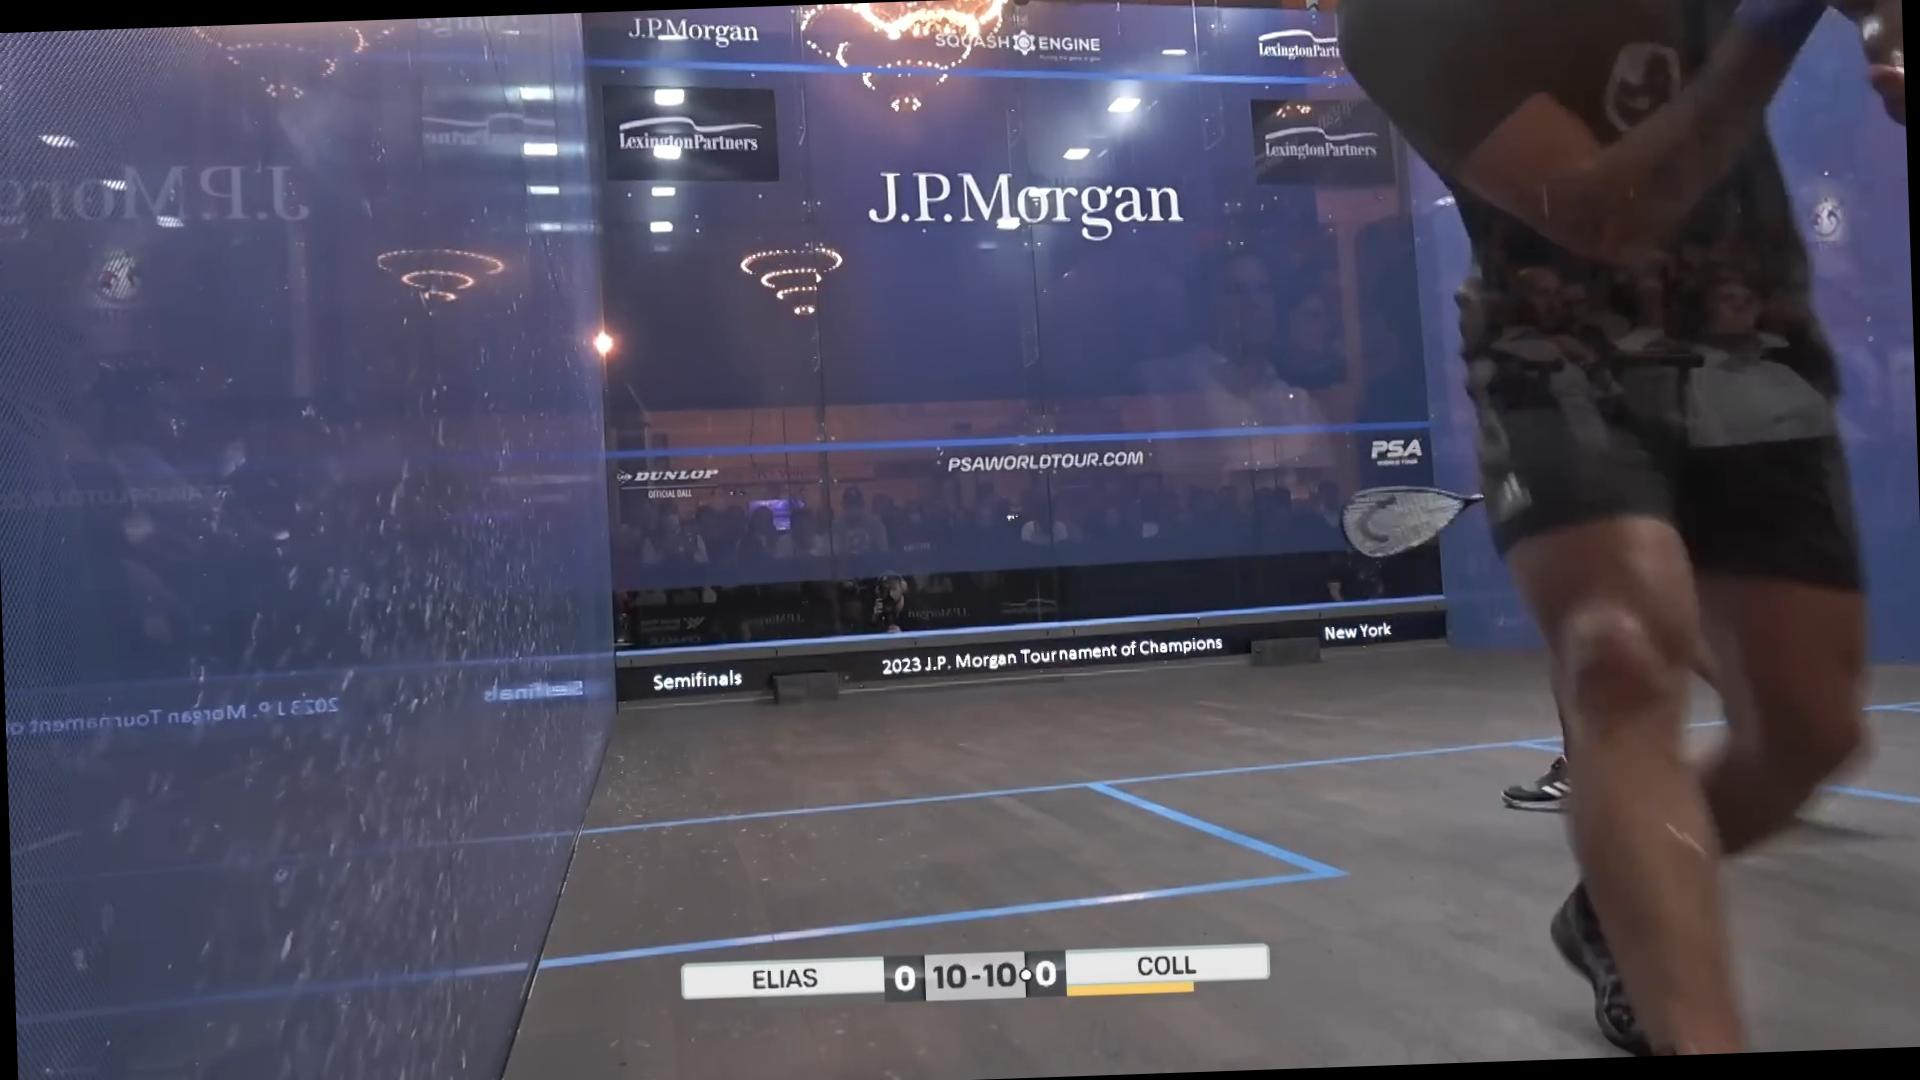Racket: (1337, 472, 1491, 571)
